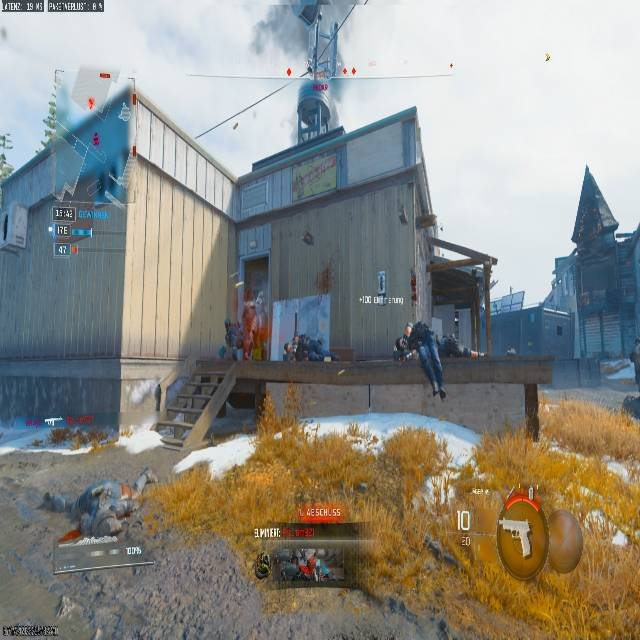head: (414, 319, 433, 339), (293, 332, 304, 344), (403, 323, 412, 337)
player: (396, 321, 447, 400), (295, 72, 341, 137), (393, 326, 412, 367)
